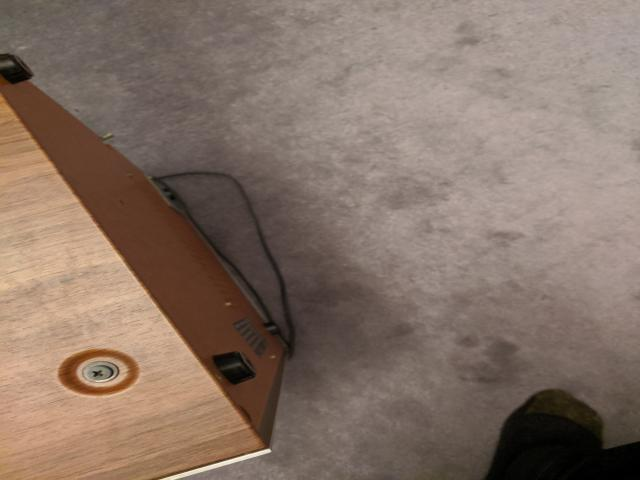CRS: (84, 366, 113, 382)
